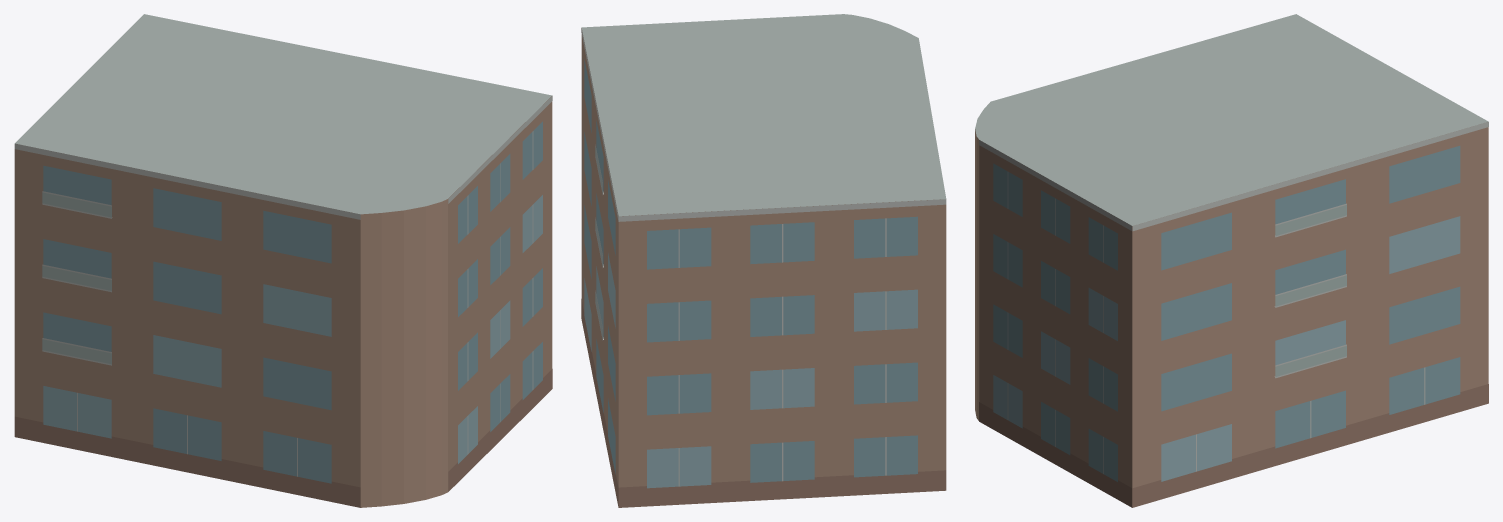
Rendered from survey-upis-33001728.glb.
3 renders of one model, left to right at view 1: azimuth 30°, elevation 25°; view 2: azimuth 150°, elevation 25°; view 3: azimuth 270°, elevation 25°, orthographic. The views are drawn at different scales.
Visible parts, largest first — view 1: survey-upis-33001728.tmp; view 2: survey-upis-33001728.tmp; view 3: survey-upis-33001728.tmp.
Boxes of the visible parts, <box> form: survey-upis-33001728.tmp: <box>14,14,552,507</box>; survey-upis-33001728.tmp: <box>581,14,946,507</box>; survey-upis-33001728.tmp: <box>975,14,1488,507</box>.
Size of the model in its own units: 20.66 by 12.8 by 21.15.
